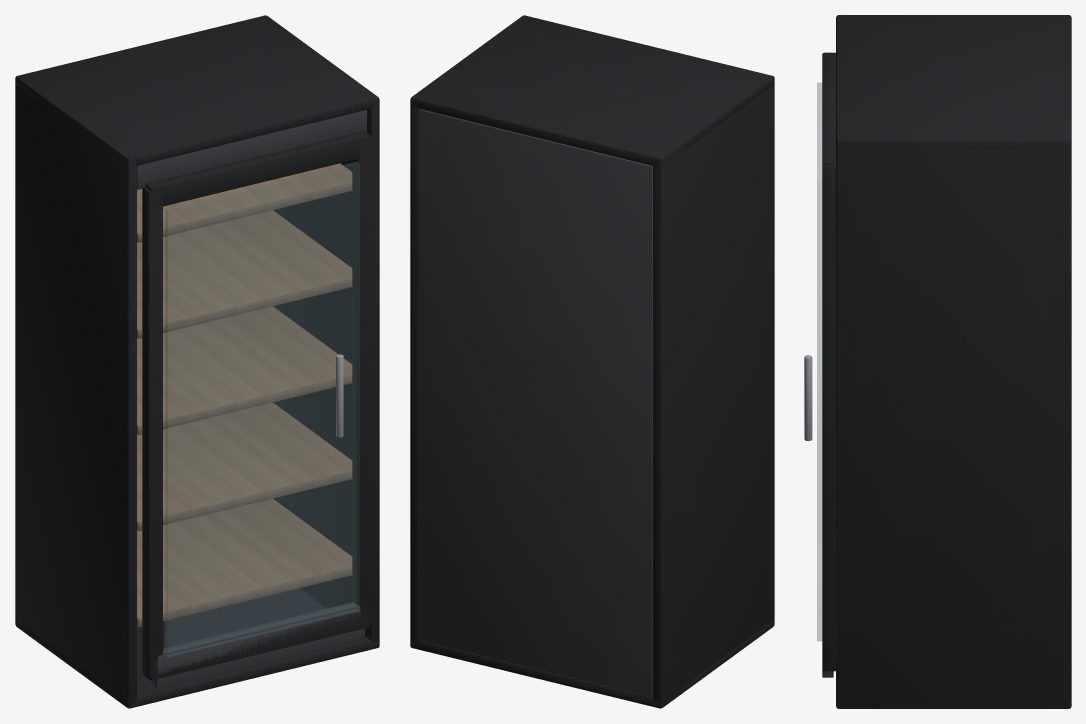
Rendered from pf_display_drink_refrigerator_t2.glb.
The picture shows the model from 3 angles, left to right: view 1: azimuth 30°, elevation 25°; view 2: azimuth 150°, elevation 25°; view 3: azimuth 270°, elevation 25°; orthographic projection. The views are drawn at different scales.
Visible parts, largest first — view 1: Door_Glass_01, Case_Left, Case_Top, Case_Right, Shelf_01, Shelf_04, Shelf_02, Shelf_03, Door_Frame_01_L, Door_Frame_01_R, Case_Base, Refrigeration_Vent (+5 smaller); view 2: Case_Back, Case_Left, Case_Top, Case_Right, Case_Base; view 3: Case_Right, Case_Top, Door_Frame_01_R, Door_Glass_01, Door_Frame_01_Top, Door_Handle_01, Case_Base.
Boxes of the visible parts, box(x1,y1,x2,y2) form: Door_Glass_01: box(165, 162, 359, 656); Case_Left: box(15, 83, 136, 708); Case_Top: box(15, 15, 379, 165); Case_Right: box(273, 99, 379, 647); Shelf_01: box(137, 498, 352, 627); Shelf_04: box(137, 210, 352, 338); Shelf_02: box(137, 402, 352, 531); Shelf_03: box(137, 306, 352, 434); Door_Frame_01_L: box(142, 187, 162, 678); Door_Frame_01_R: box(352, 136, 372, 626); Case_Base: box(15, 588, 379, 708); Refrigeration_Vent: box(152, 602, 364, 688); Case_Back: box(419, 109, 652, 696); Case_Left: box(653, 84, 774, 708); Case_Top: box(410, 15, 774, 166); Case_Right: box(410, 98, 419, 647); Case_Base: box(410, 619, 774, 708); Case_Right: box(836, 138, 1071, 708); Case_Top: box(836, 15, 1071, 148); Door_Frame_01_R: box(822, 165, 835, 669); Door_Glass_01: box(817, 83, 821, 640); Door_Frame_01_Top: box(822, 52, 835, 165); Door_Handle_01: box(804, 355, 812, 441); Case_Base: box(836, 701, 1071, 708).
Size of the model in its own units: 0.92 by 1.92 by 0.817.
7 materials, 3 textured.
